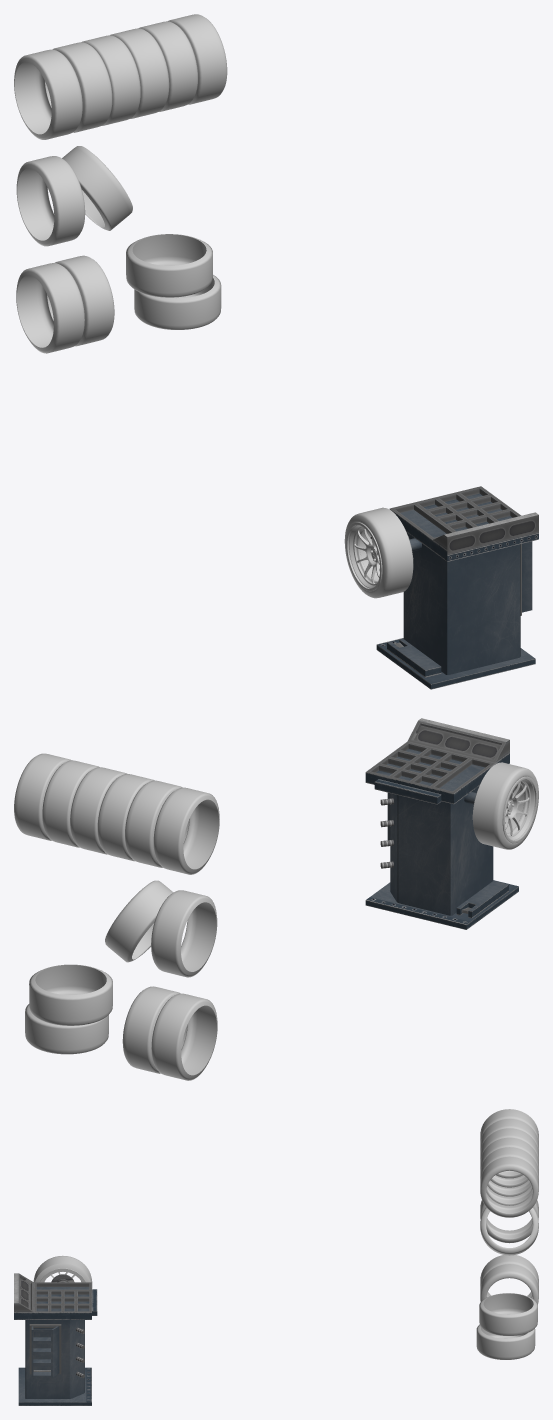
File: mat_garage_wheel.obj
3 views of the same model, one above another, from view 1: azimuth 30°, elevation 25°; view 2: azimuth 150°, elevation 25°; view 3: azimuth 270°, elevation 25° (orthographic). The views are drawn at different scales.
Parts seen in each view (by area): view 1: prop_garage_Balanced_Machine, prop_garage_wheel.010, prop_garage_wheel.005, prop_garage_wheel.003, prop_garage_wheel.012, prop_garage_wheel.001, prop_garage_wheel.011, prop_garage_wheel.002, prop_garage_wheel.004, prop_garage_wheel.009, prop_garage_wheel.008, prop_garage_wheel.007 (+1 smaller); view 2: prop_garage_Balanced_Machine, prop_garage_wheel.005, prop_garage_wheel.003, prop_garage_wheel.010, prop_garage_wheel.012, prop_garage_wheel.001, prop_garage_wheel.002, prop_garage_wheel.004, prop_garage_wheel.009, prop_garage_wheel.011, prop_garage_wheel.008, prop_garage_wheel.007 (+1 smaller); view 3: prop_garage_Balanced_Machine, prop_garage_wheel.012, prop_garage_wheel.009, prop_garage_wheel.011, prop_garage_wheel.008, prop_garage_wheel.007, prop_garage_wheel.002, prop_garage_wheel.006, prop_garage_wheel.001, prop_garage_wheel.010, prop_garage_wheel.004, prop_garage_wheel.003 (+1 smaller).
Part boxes in pixels (x1=…): prop_garage_Balanced_Machine: x1=344, y1=486, x2=538, y2=689; prop_garage_wheel.010: x1=16, y1=156, x2=85, y2=246; prop_garage_wheel.005: x1=14, y1=49, x2=82, y2=139; prop_garage_wheel.003: x1=16, y1=263, x2=84, y2=353; prop_garage_wheel.012: x1=126, y1=234, x2=212, y2=297; prop_garage_wheel.001: x1=62, y1=146, x2=132, y2=230; prop_garage_wheel.011: x1=134, y1=275, x2=221, y2=329; prop_garage_wheel.002: x1=47, y1=255, x2=114, y2=346; prop_garage_wheel.004: x1=45, y1=42, x2=112, y2=132; prop_garage_wheel.009: x1=168, y1=14, x2=227, y2=104; prop_garage_wheel.008: x1=138, y1=21, x2=197, y2=111; prop_garage_wheel.007: x1=110, y1=28, x2=169, y2=118; prop_garage_Balanced_Machine: x1=365, y1=718, x2=538, y2=929; prop_garage_wheel.005: x1=153, y1=787, x2=219, y2=874; prop_garage_wheel.003: x1=151, y1=993, x2=217, y2=1080; prop_garage_wheel.010: x1=151, y1=890, x2=217, y2=977; prop_garage_wheel.012: x1=29, y1=964, x2=112, y2=1025; prop_garage_wheel.001: x1=105, y1=880, x2=173, y2=962; prop_garage_wheel.002: x1=122, y1=986, x2=187, y2=1073; prop_garage_wheel.004: x1=125, y1=780, x2=189, y2=867; prop_garage_wheel.009: x1=14, y1=753, x2=70, y2=840; prop_garage_wheel.011: x1=25, y1=1004, x2=108, y2=1054; prop_garage_wheel.008: x1=42, y1=760, x2=99, y2=847; prop_garage_wheel.007: x1=70, y1=767, x2=127, y2=854; prop_garage_Balanced_Machine: x1=14, y1=1255, x2=97, y2=1405; prop_garage_wheel.012: x1=479, y1=1293, x2=537, y2=1335; prop_garage_wheel.009: x1=480, y1=1156, x2=538, y2=1217; prop_garage_wheel.011: x1=476, y1=1324, x2=535, y2=1359; prop_garage_wheel.008: x1=480, y1=1147, x2=538, y2=1205; prop_garage_wheel.007: x1=480, y1=1137, x2=538, y2=1196; prop_garage_wheel.002: x1=480, y1=1264, x2=538, y2=1304; prop_garage_wheel.006: x1=480, y1=1128, x2=538, y2=1187; prop_garage_wheel.001: x1=480, y1=1207, x2=538, y2=1255; prop_garage_wheel.010: x1=480, y1=1200, x2=538, y2=1243; prop_garage_wheel.004: x1=480, y1=1119, x2=538, y2=1178; prop_garage_wheel.003: x1=480, y1=1255, x2=538, y2=1298.
Bounding box in the file's own units: 1.56 × 3.09 × 5.83.
